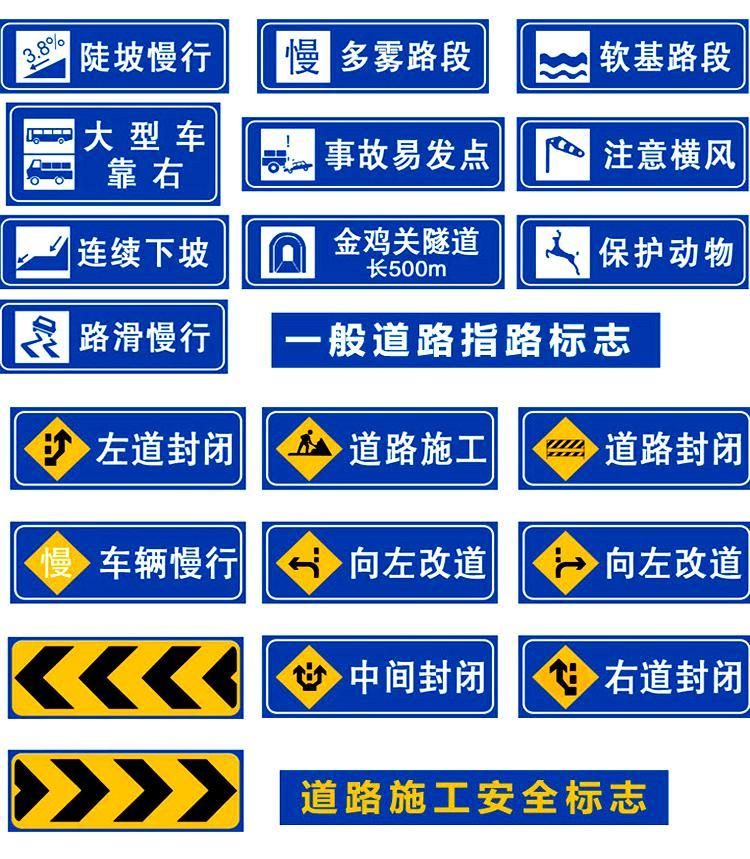sign: (8, 103, 218, 204), (10, 520, 245, 602), (241, 116, 504, 189), (241, 215, 502, 287), (10, 407, 241, 487), (10, 636, 240, 715), (265, 637, 497, 715), (265, 525, 494, 602), (9, 754, 243, 828), (524, 526, 750, 602), (523, 640, 750, 715), (521, 410, 746, 485), (259, 19, 489, 92), (265, 413, 495, 486), (515, 217, 746, 287), (518, 118, 746, 188), (1, 303, 225, 374), (1, 217, 227, 287), (519, 22, 749, 90), (4, 20, 225, 86)
